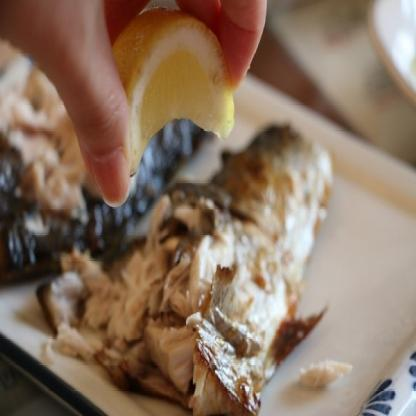Peixe: (0, 106, 362, 409)
